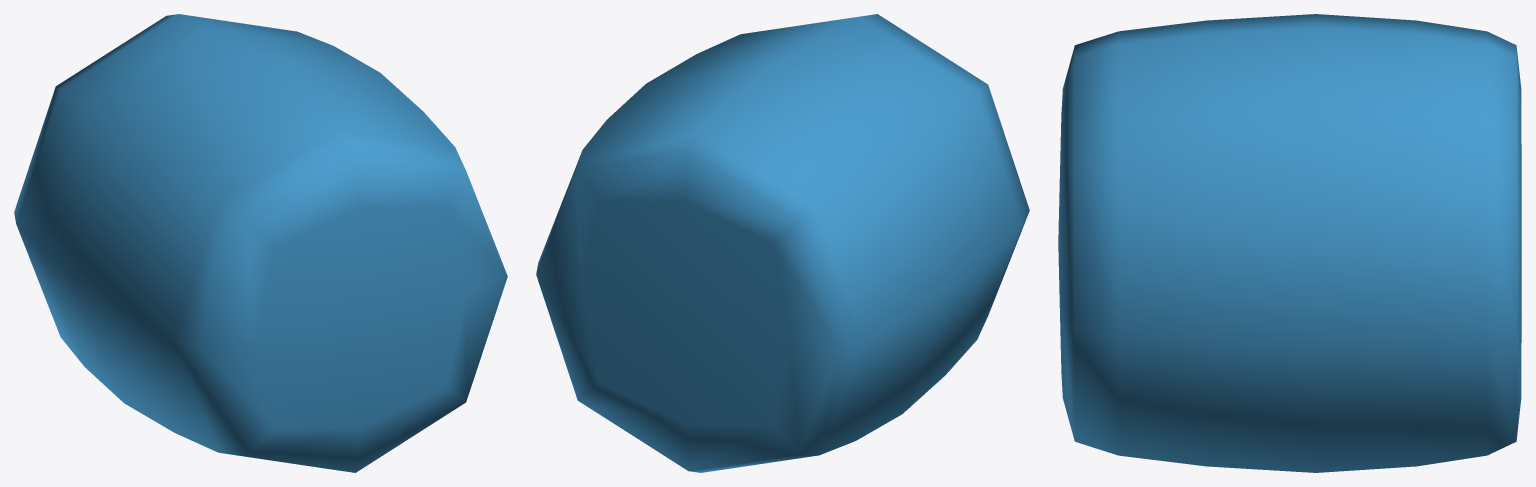
The model's file is CylinderBlueCandy.fbx.
3 renders of one model, left to right at view 1: azimuth 30°, elevation 25°; view 2: azimuth 150°, elevation 25°; view 3: azimuth 270°, elevation 25°, orthographic. The views are drawn at different scales.
Parts seen in each view (by area): view 1: CylinderCandy; view 2: CylinderCandy; view 3: CylinderCandy.
Boxes of the visible parts, <box> form: CylinderCandy: <box>14,14,507,472</box>; CylinderCandy: <box>536,14,1029,472</box>; CylinderCandy: <box>1058,14,1521,472</box>.
Bounding box in the file's own units: 97.24 × 97.24 × 94.89.
